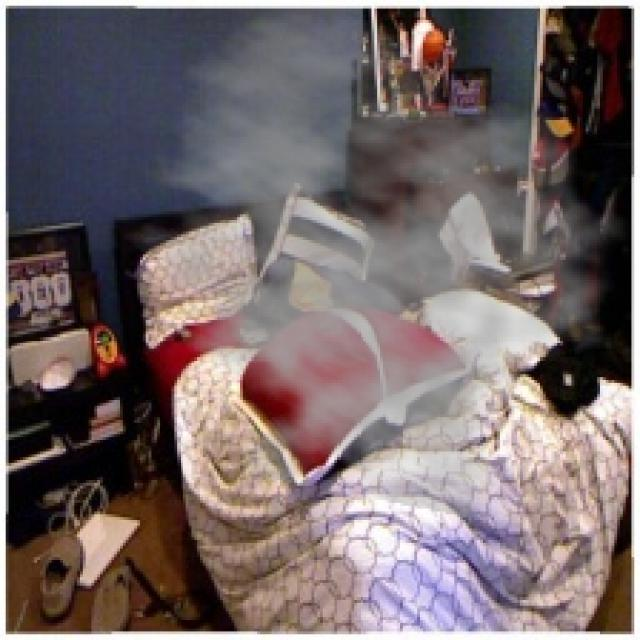smoke: (103, 8, 631, 523)
